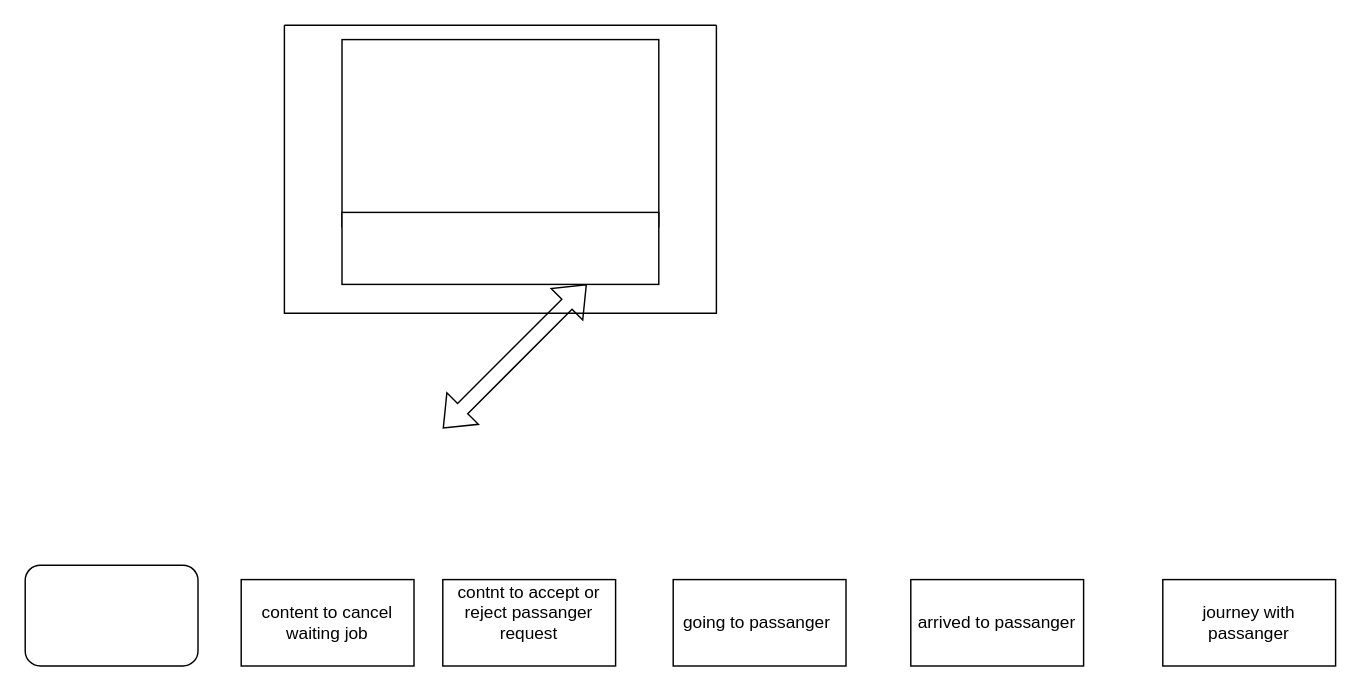
Some shapes in this 1361 by 691 pixel diagram are drawn without their labels. Here are the shapes that lost their labels. From the top down, the box of each, then its label:
(341, 38, 659, 227): map to driver
(341, 211, 659, 284): non map to driverr
(24, 564, 198, 666): content to start job
